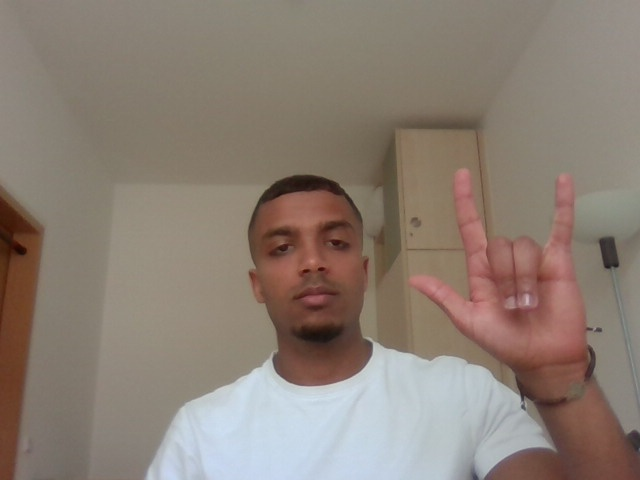absolutely: (405, 159, 599, 378)
